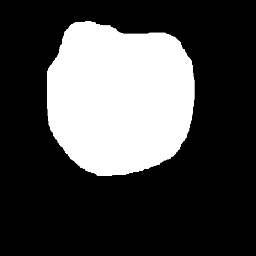mass: (44, 26, 198, 180)
